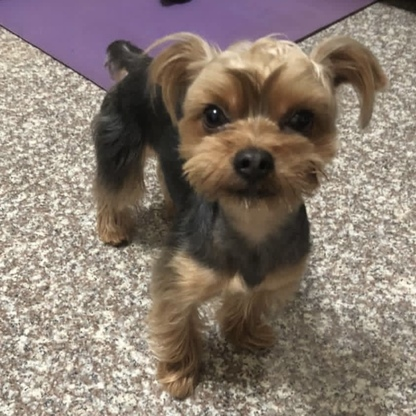yokshine: (87, 30, 389, 403)
